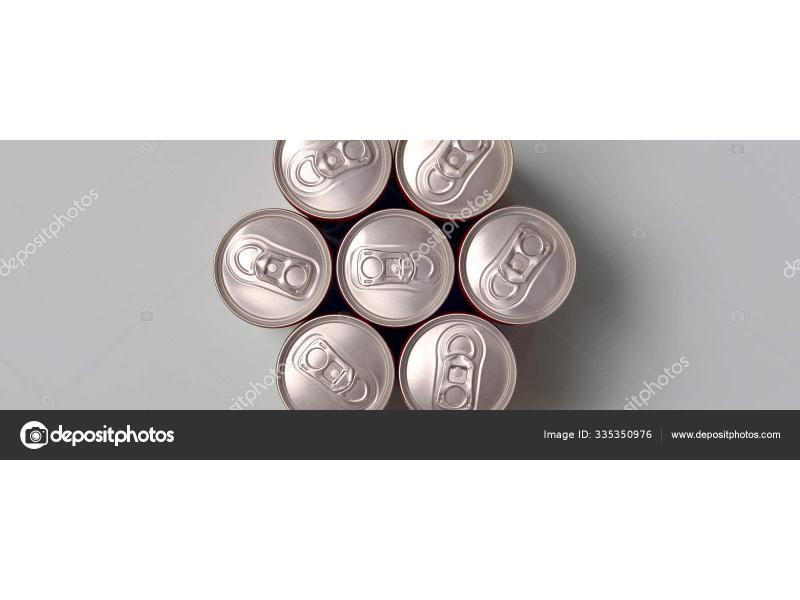can: (452, 204, 580, 328), (211, 205, 332, 331), (334, 207, 458, 327), (396, 315, 521, 407), (278, 311, 393, 406), (267, 141, 395, 225), (393, 143, 529, 216)
